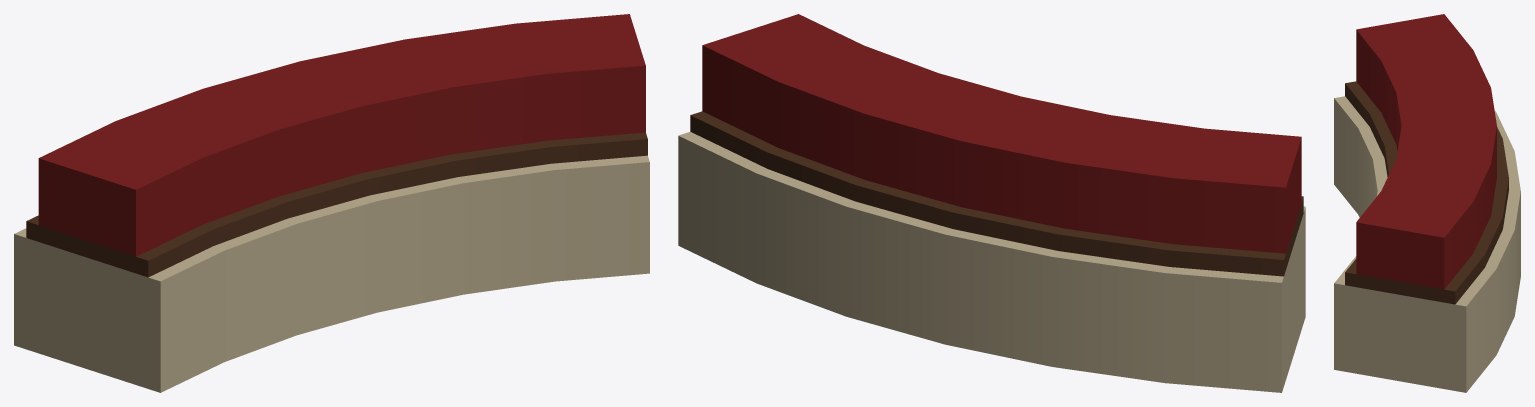
Rendered from curve_planter.glb.
The picture shows the model from 3 angles, left to right: view 1: azimuth 30°, elevation 25°; view 2: azimuth 150°, elevation 25°; view 3: azimuth 270°, elevation 25°; orthographic projection. The views are drawn at different scales.
Visible parts, largest first — view 1: sw5e_int_curve_planter; view 2: sw5e_int_curve_planter; view 3: sw5e_int_curve_planter.
Boxes of the visible parts, x1,y1,x2,y2 form: sw5e_int_curve_planter: [14, 14, 649, 392]; sw5e_int_curve_planter: [678, 14, 1305, 392]; sw5e_int_curve_planter: [1334, 14, 1520, 392].
Bounding box in the file's own units: 2.3 × 0.7 × 0.7827.
